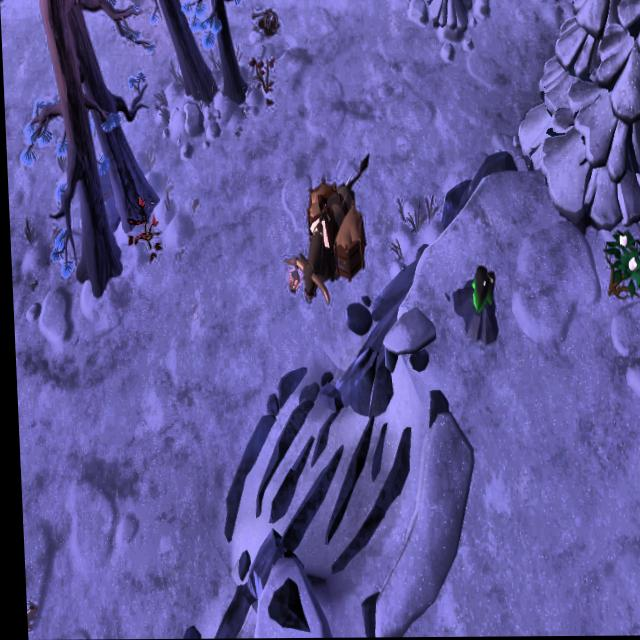fiber_t3: (600, 228, 640, 305)
ore_t3: (468, 260, 496, 311)
